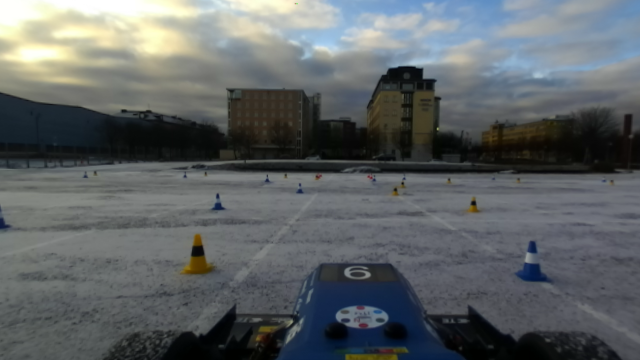blue: (514, 240, 549, 281), (211, 191, 226, 210), (295, 181, 305, 193), (263, 172, 271, 183), (371, 174, 378, 183)
yellow: (180, 233, 216, 274), (466, 195, 480, 212), (391, 186, 399, 195), (399, 179, 407, 188), (515, 175, 521, 183), (446, 175, 451, 183), (609, 177, 614, 184)
